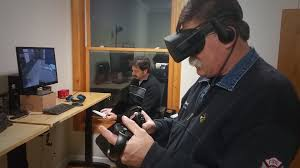oculus: (163, 23, 213, 64)
